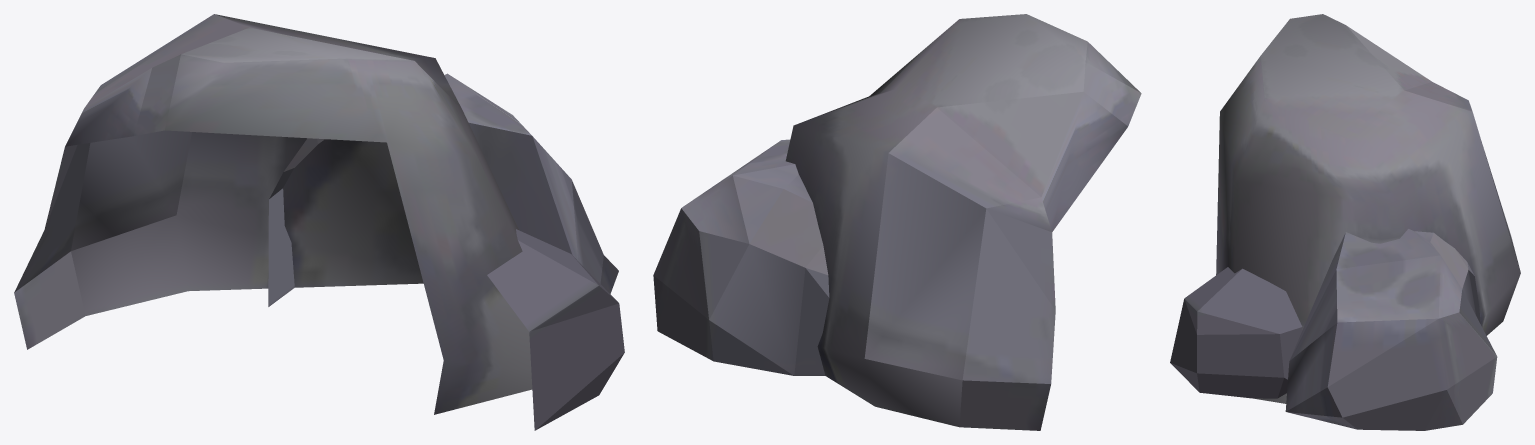
File: RockMediumStone.fbx
The picture shows the model from 3 angles, left to right: view 1: azimuth 30°, elevation 25°; view 2: azimuth 150°, elevation 25°; view 3: azimuth 270°, elevation 25°; orthographic projection. The views are drawn at different scales.
Visible parts, largest first — view 1: RockMesh; view 2: RockMesh; view 3: RockMesh.
Boxes of the visible parts, x1,y1,x2,y2 form: RockMesh: (14,14,624,430); RockMesh: (653,14,1141,430); RockMesh: (1170,14,1520,430).
Size of what is drawn, in the model's own units: 1.59 by 1.08 by 1.3.
